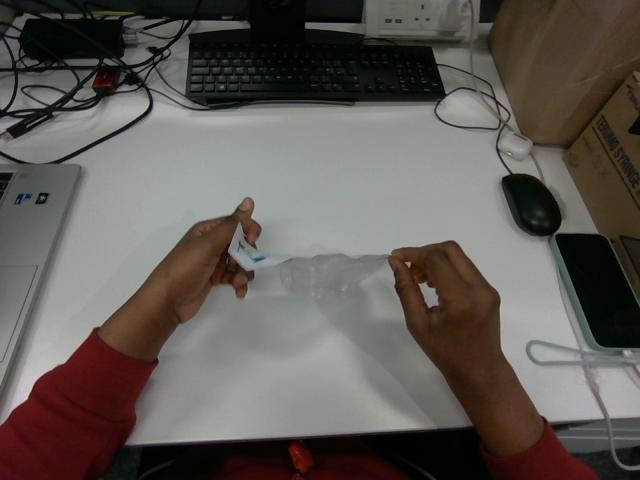gallipot: (277, 254, 387, 298)
